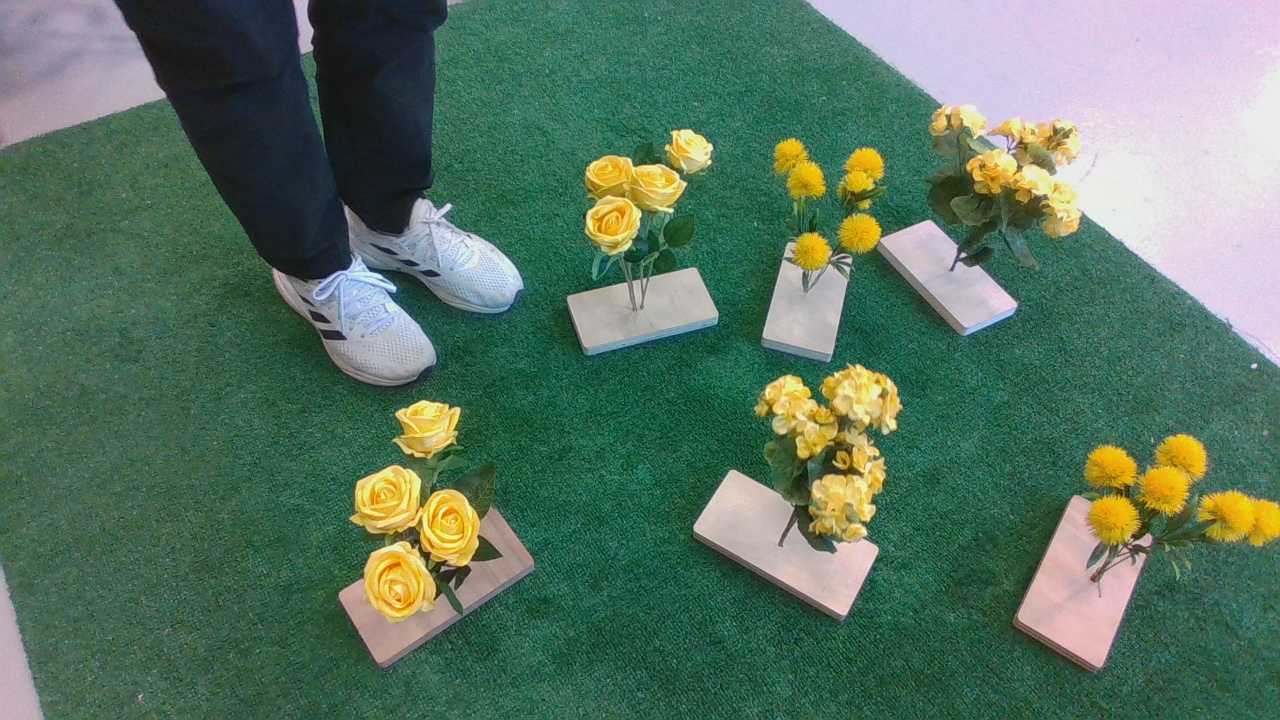dandelion: (1079, 423, 1280, 599), (770, 136, 895, 291)
geranium: (754, 363, 912, 562), (930, 97, 1091, 286)
rose: (352, 397, 517, 632), (579, 126, 739, 293)
